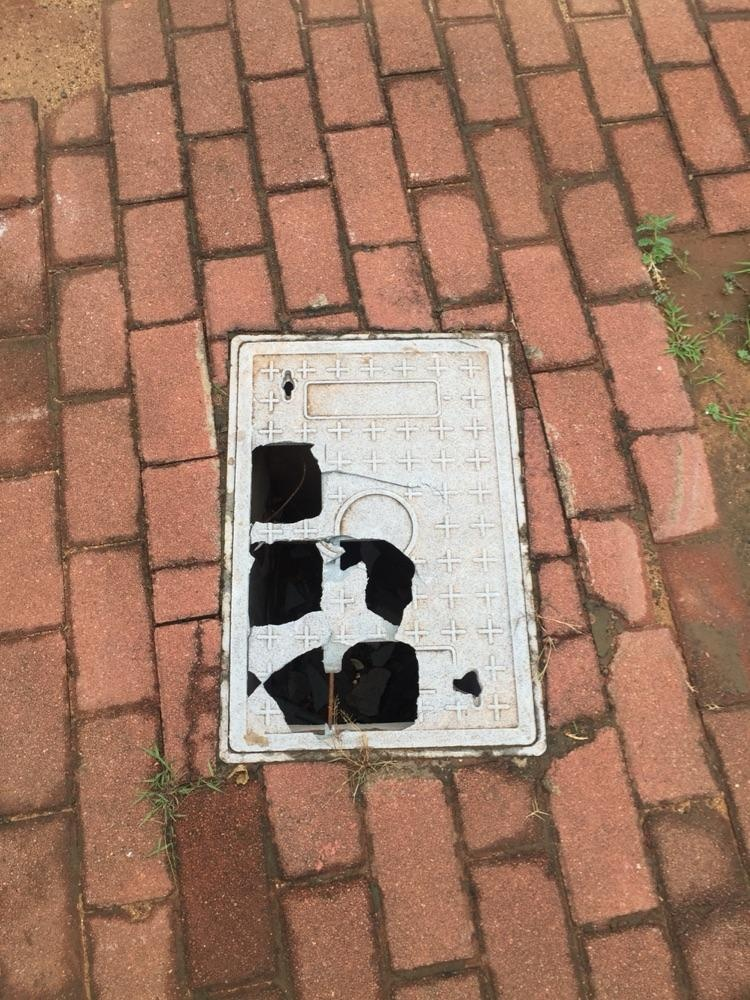broke: (216, 334, 552, 760)
